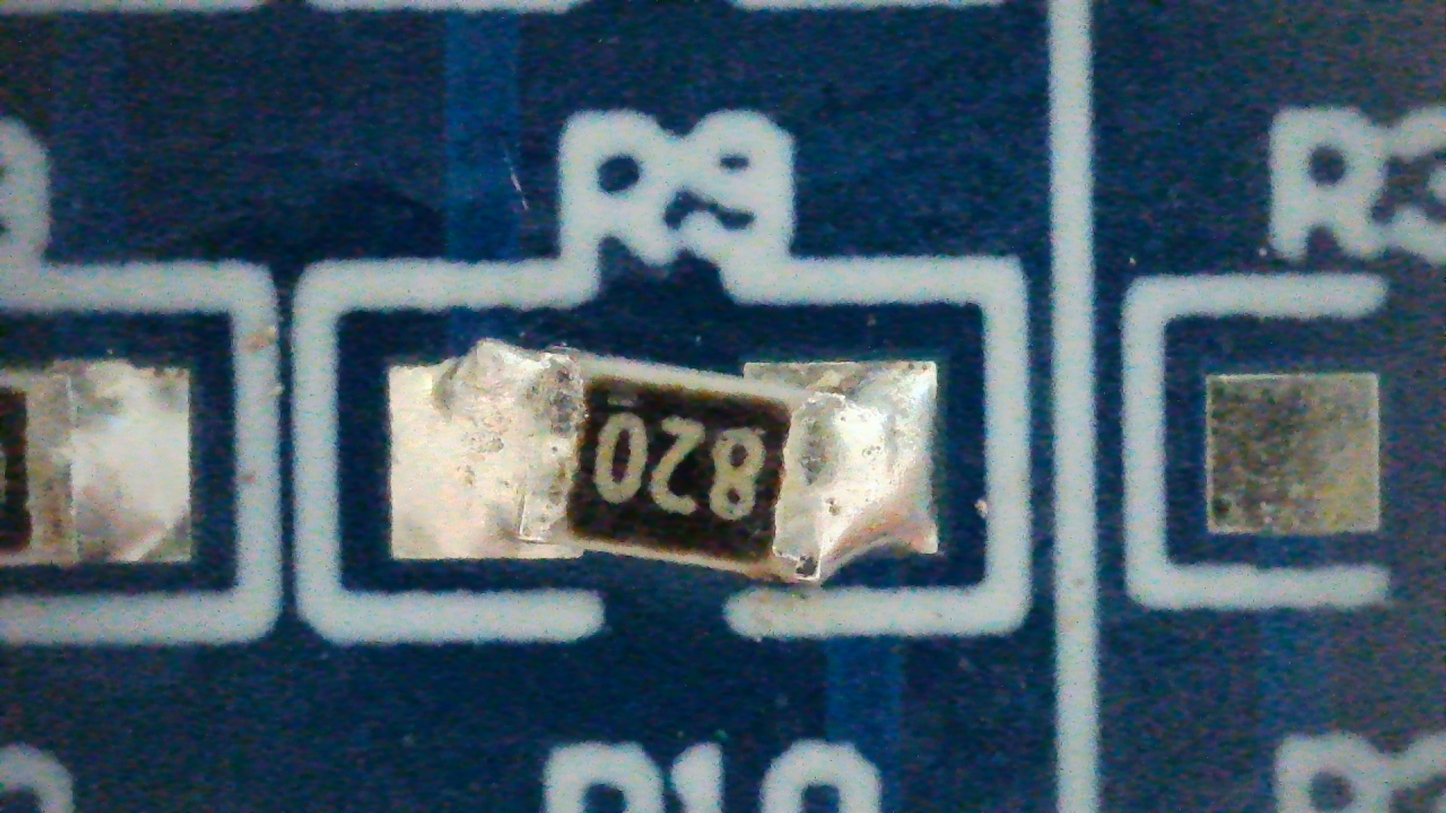NG: (391, 337, 936, 585)
